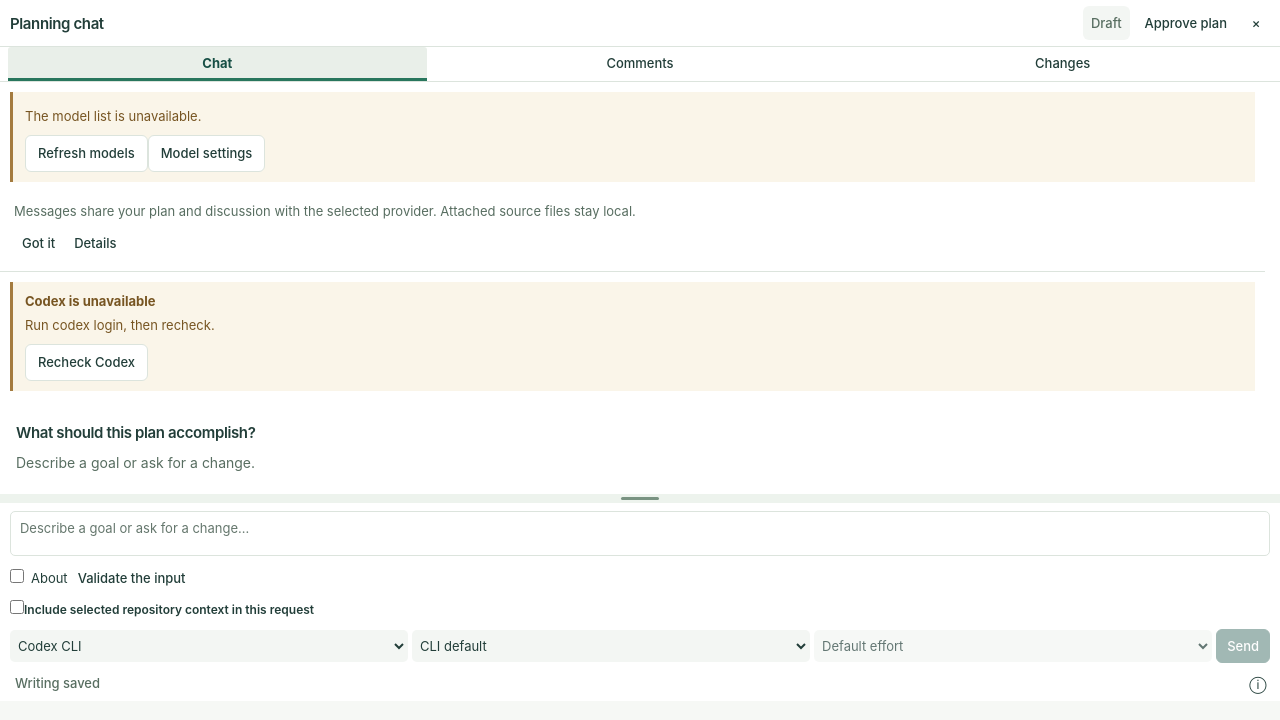
Test: planning conversation › disables sending when Codex is unavailable while leaving comments usable
Expected: the heading "What should this plan accomplish?" is shown, [16, 423, 255, 442]
Expected: the text "Run codex login, then recheck." is shown, [25, 317, 215, 333]
Type "Hello" into the text box named "Message Codex" at (640, 534), box [10, 511, 1270, 556]
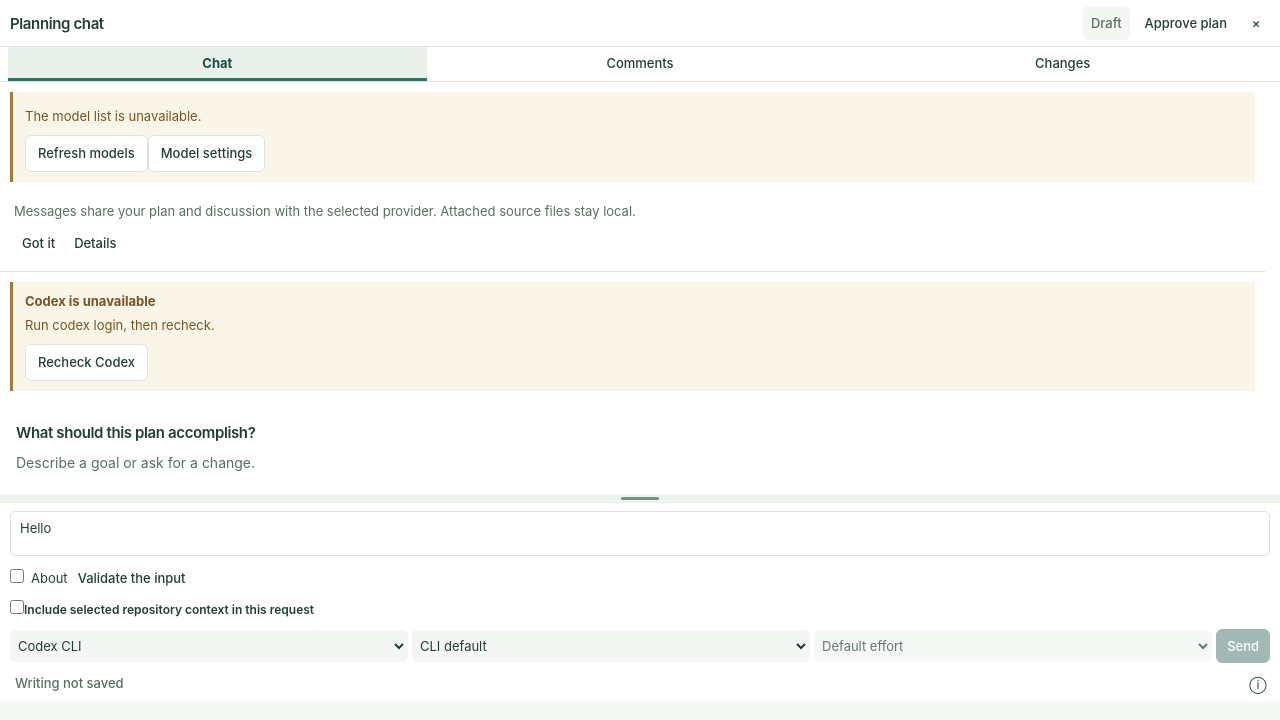
Expected: the button "Send" is disabled, [1216, 629, 1270, 663]
Click the tab "Comments" at (640, 64), box [431, 47, 849, 81]
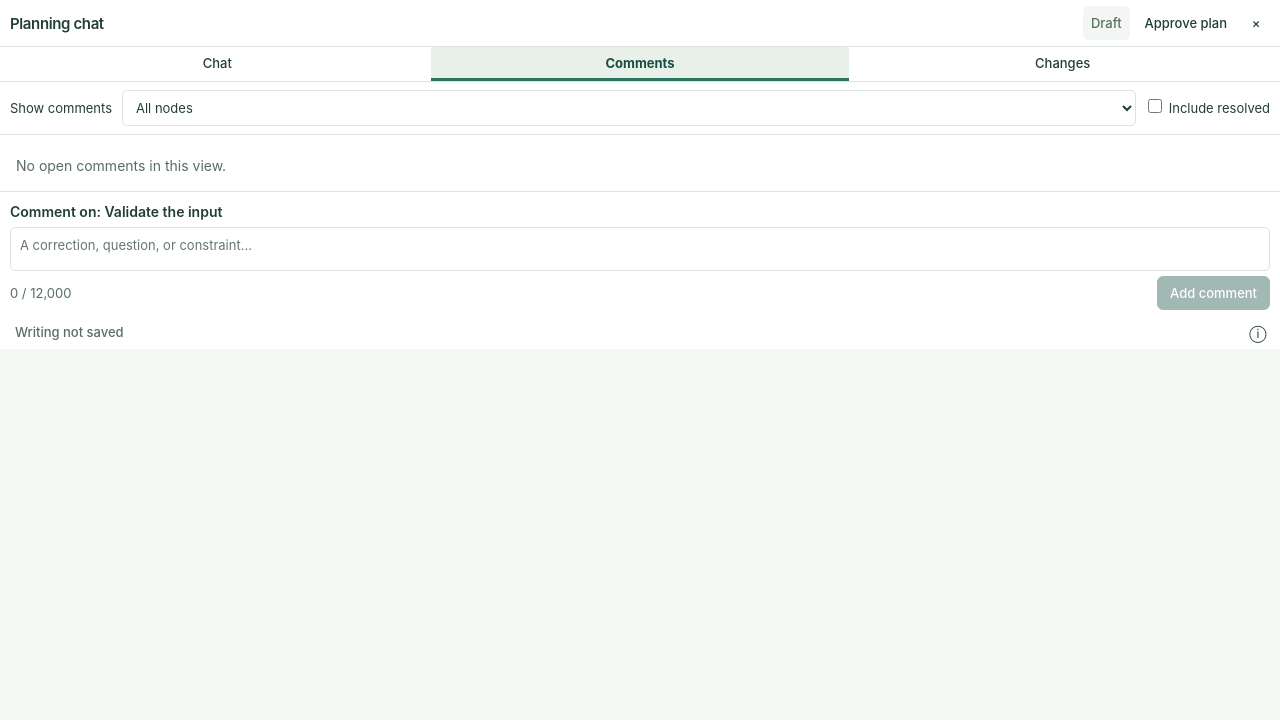
Type "Review this step" into the text box labelled "Comment on: Validate the input" at (640, 249), box [10, 227, 1270, 271]
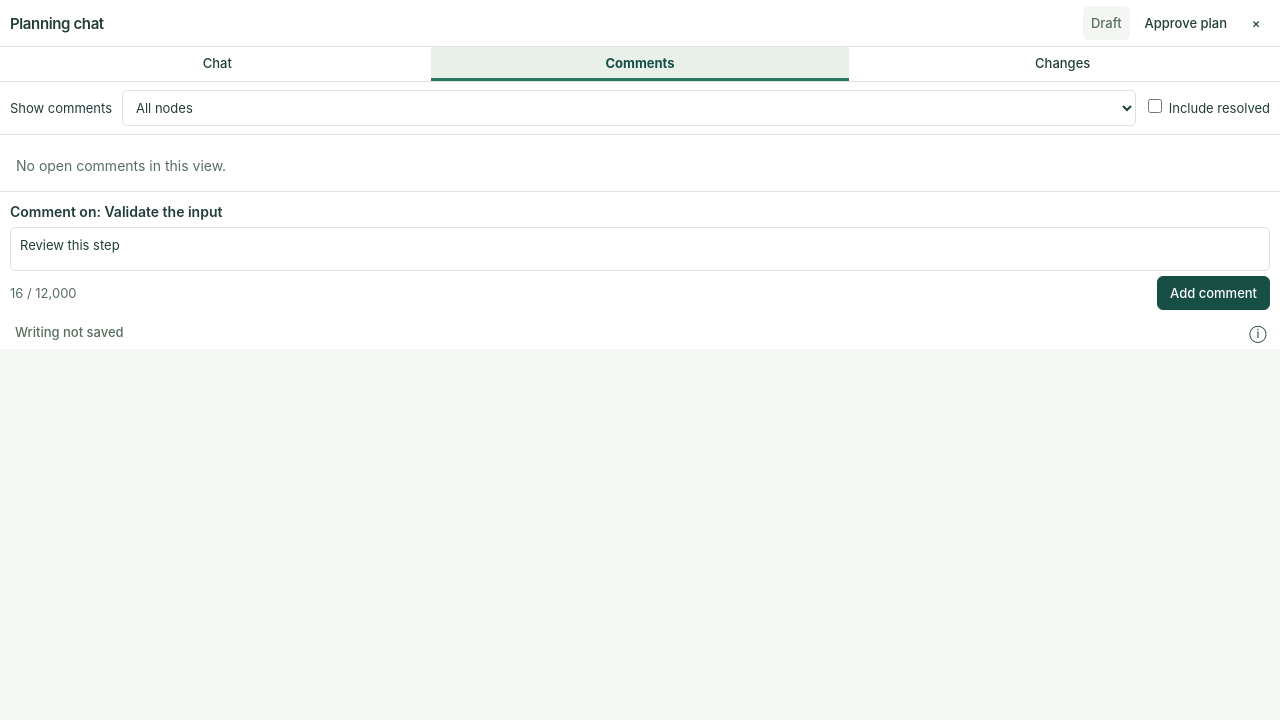
Expected: the button "Add comment" is enabled, [1157, 276, 1270, 310]
